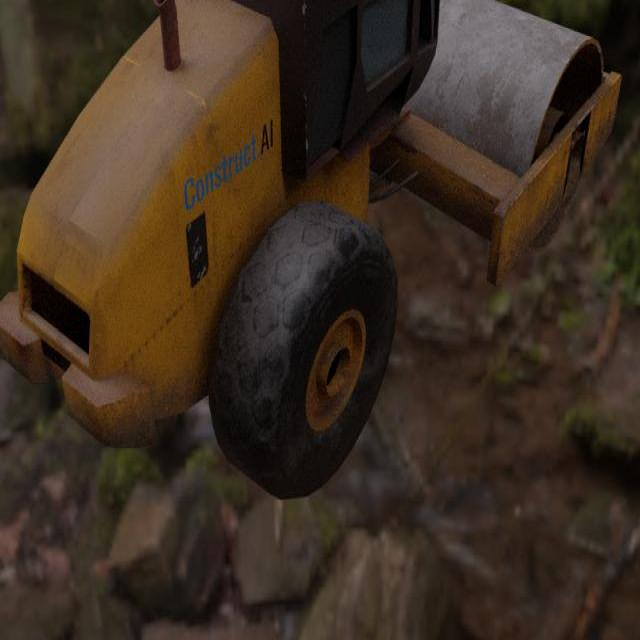Roller: (0, 0, 623, 501)
